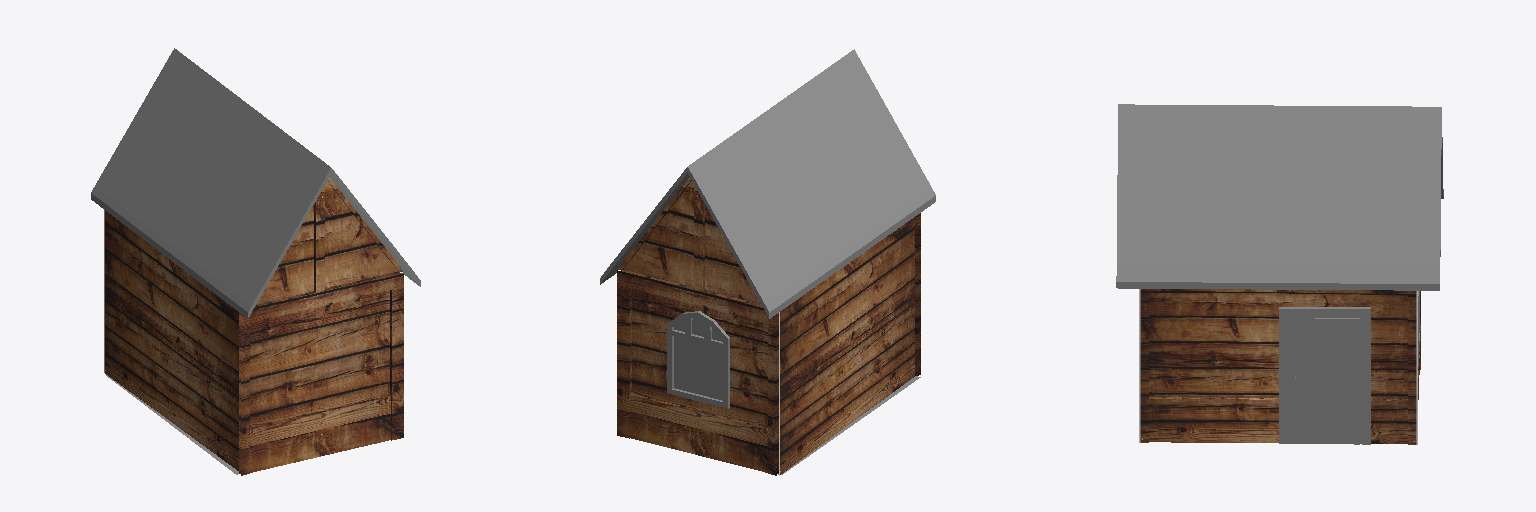
3 renders of one model, left to right at view 1: azimuth 30°, elevation 25°; view 2: azimuth 150°, elevation 25°; view 3: azimuth 270°, elevation 25°, orthographic.
Parts seen in each view (by area): view 1: casa3_paredes, casa2_casa1_telhado002, casa3_parede_lado; view 2: casa2_casa1_telhado002, casa3_paredes, casa3_parede_lado, casa4_janela2; view 3: casa2_casa1_telhado002, casa3_parede_lado, casa3_porta.
Boxes of the visible parts, <box> form: casa3_paredes: <box>239,178,403,475</box>; casa2_casa1_telhado002: <box>91,48,420,318</box>; casa3_parede_lado: <box>104,210,402,470</box>; casa2_casa1_telhado002: <box>600,49,935,318</box>; casa3_paredes: <box>617,177,920,475</box>; casa3_parede_lado: <box>618,217,914,475</box>; casa4_janela2: <box>667,311,729,408</box>; casa2_casa1_telhado002: <box>1116,104,1443,290</box>; casa3_parede_lado: <box>1139,289,1417,444</box>; casa3_porta: <box>1279,307,1370,444</box>.
Size of the model in its own units: 22.28 by 36.05 by 35.87.
4 materials, 1 textured.